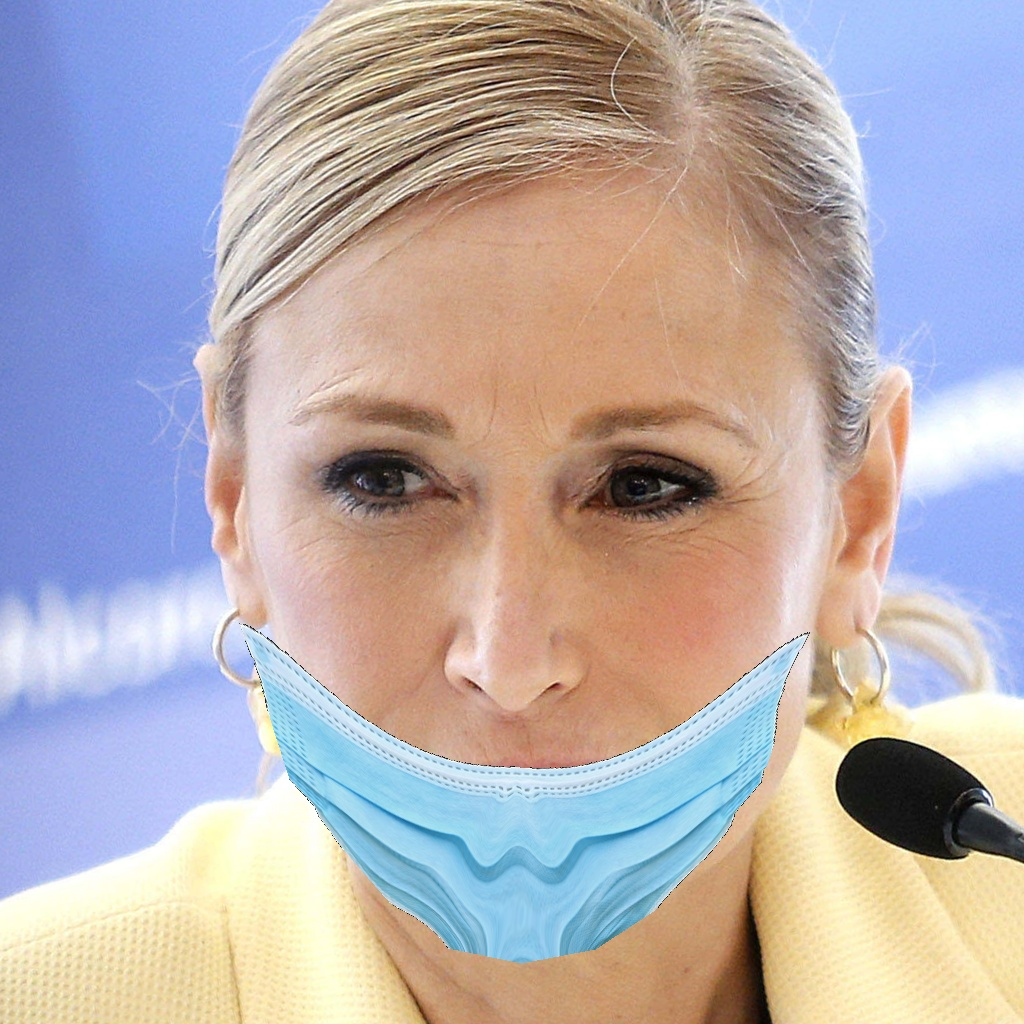mascarilla_mal_puesta: (272, 378, 849, 970)
